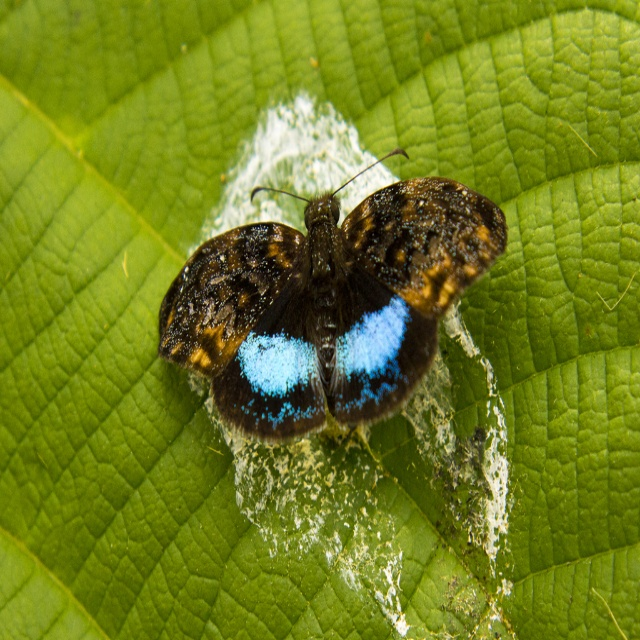Butterfly: (152, 114, 533, 481)
